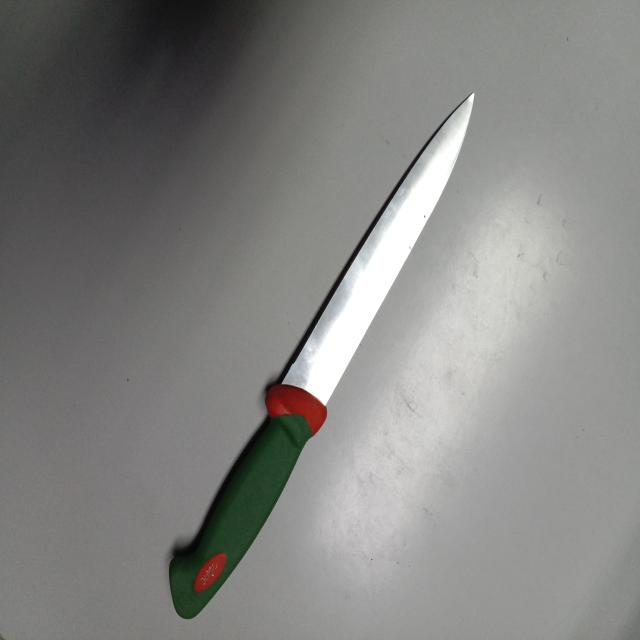Knife: (169, 93, 474, 619)
